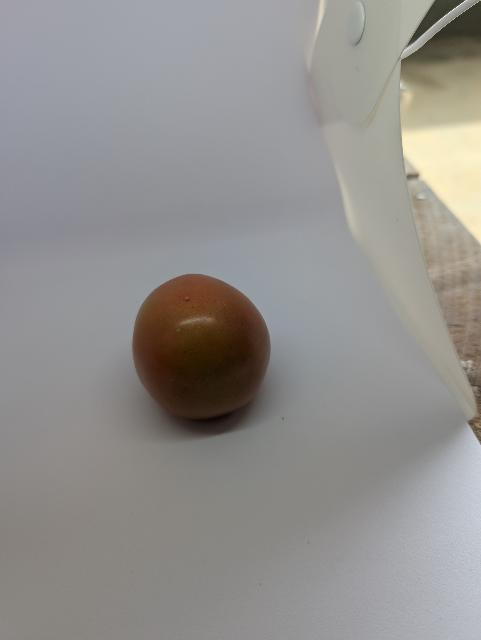red: (125, 269, 280, 424)
